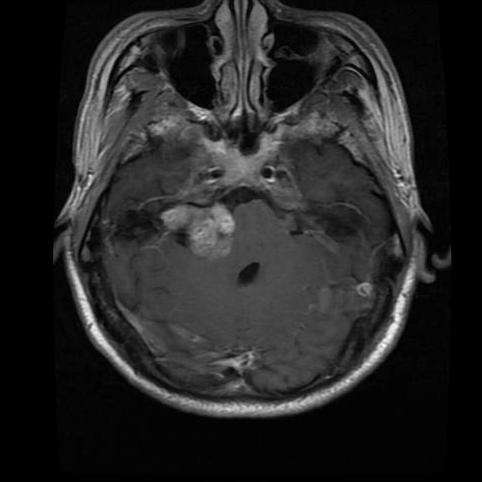Tumour-Meningioma: (162, 183, 250, 278)
